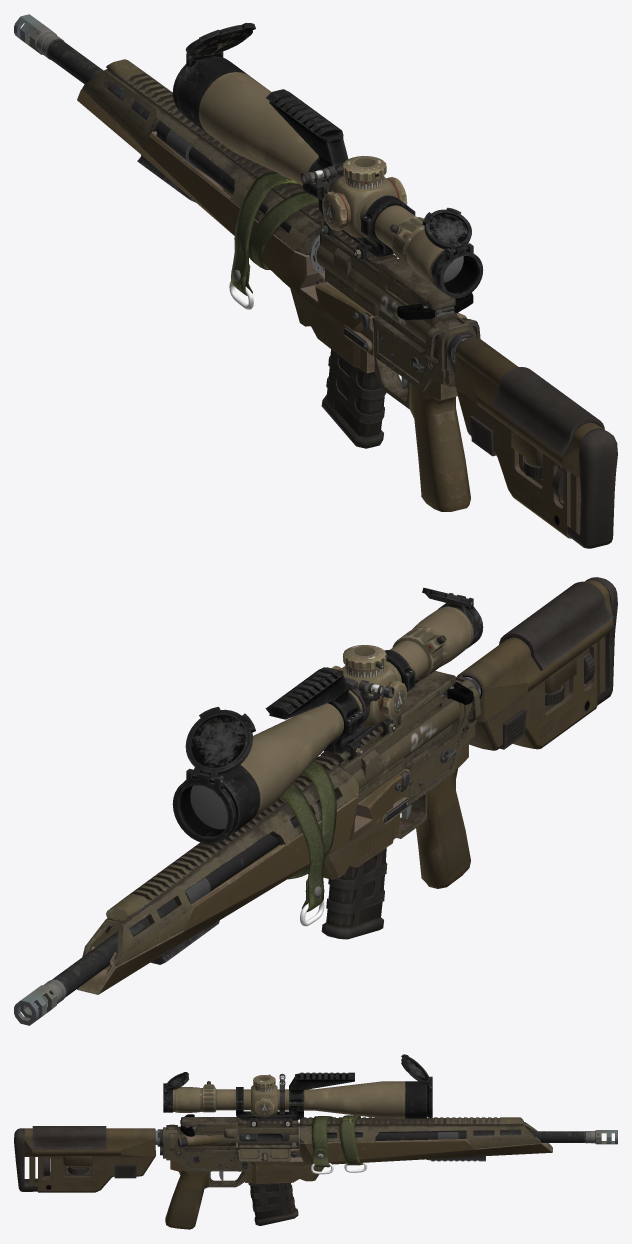
Rendered from bolt_sniper.glb.
3 views of the same model, one above another, from view 1: azimuth 30°, elevation 25°; view 2: azimuth 150°, elevation 25°; view 3: azimuth 270°, elevation 25° (orthographic). The views are drawn at different scales.
Bounding box in the file's own units: 0.1072 × 0.3714 × 1.2.
4 materials, 2 textured.
